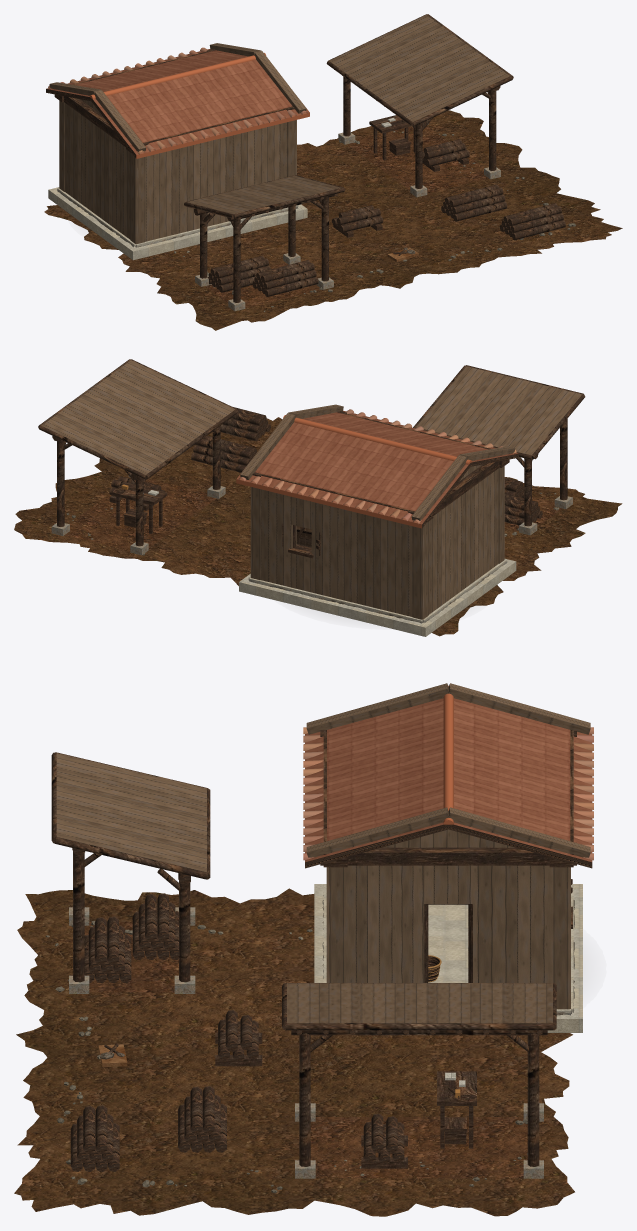
The model's file is lumber@2.glb.
3 views of the same model, one above another, from view 1: azimuth 30°, elevation 25°; view 2: azimuth 150°, elevation 25°; view 3: azimuth 270°, elevation 25° (orthographic). The views are drawn at different scales.
Parts seen in each view (by area): view 1: part_1, part_6, part_7, part_11, part_17, part_10, part_5, part_18, part_4, part_19, part_2; view 2: part_6, part_11, part_1, part_17, part_7, part_10, part_5, part_18, part_4, part_19; view 3: part_1, part_7, part_11, part_17, part_6, part_10, part_5, part_19, part_4, part_18, part_2.
Part boxes in pixels (box(x1,y1,x2,y2)): part_1: box(44, 110, 622, 330); part_6: box(59, 99, 296, 244); part_7: box(46, 14, 565, 302); part_11: box(49, 14, 511, 214); part_17: box(46, 49, 309, 154); part_10: box(204, 126, 488, 308); part_5: box(48, 187, 307, 260); part_18: box(89, 53, 309, 158); part_4: box(57, 123, 500, 311); part_19: box(48, 47, 307, 154); part_2: box(174, 131, 575, 312); part_6: box(250, 464, 504, 619); part_11: box(41, 359, 581, 520); part_1: box(14, 417, 622, 636); part_17: box(236, 410, 518, 524); part_7: box(38, 359, 585, 558); part_10: box(65, 478, 562, 550); part_5: box(239, 558, 516, 636); part_18: box(236, 415, 472, 528); part_4: box(51, 475, 572, 623); part_19: box(238, 409, 516, 523); part_1: box(14, 888, 574, 1216); part_7: box(51, 730, 592, 1171); part_11: box(56, 683, 590, 1023); part_17: box(305, 698, 592, 862); part_6: box(326, 829, 570, 1009); part_10: box(84, 921, 527, 1178); part_5: box(314, 884, 582, 1032); part_19: box(303, 727, 593, 860); part_4: box(69, 895, 574, 1178); part_18: box(443, 685, 453, 824); part_2: box(45, 921, 527, 1193).
Bounding box in the file's own units: 9.26 × 2.88 × 7.16.
20 materials, 15 textured.
